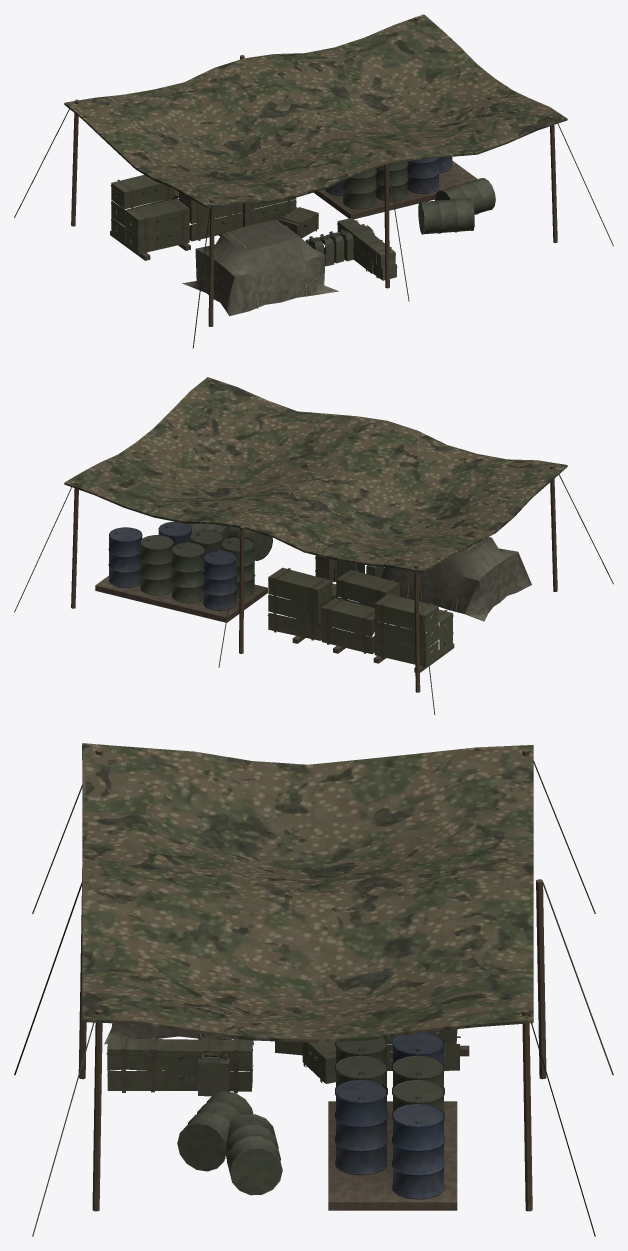
File: supply_dump.glb
3 views of the same model, one above another, from view 1: azimuth 30°, elevation 25°; view 2: azimuth 150°, elevation 25°; view 3: azimuth 270°, elevation 25° (orthographic). The views are drawn at different scales.
Parts seen in each view (by area): view 1: dump; view 2: dump; view 3: dump.
Boxes of the visible parts, x1=… form: dump: x1=14, y1=14, x2=613, y2=348; dump: x1=14, y1=377, x2=613, y2=714; dump: x1=14, y1=743, x2=613, y2=1236.
Size of the model in its own units: 8.31 by 2.38 by 6.52.
1 material, 1 textured.
